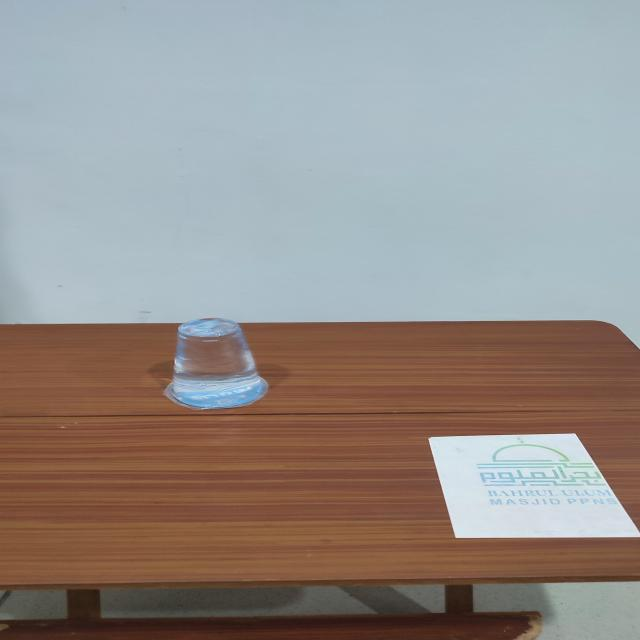air gelas: (159, 316, 274, 414)
